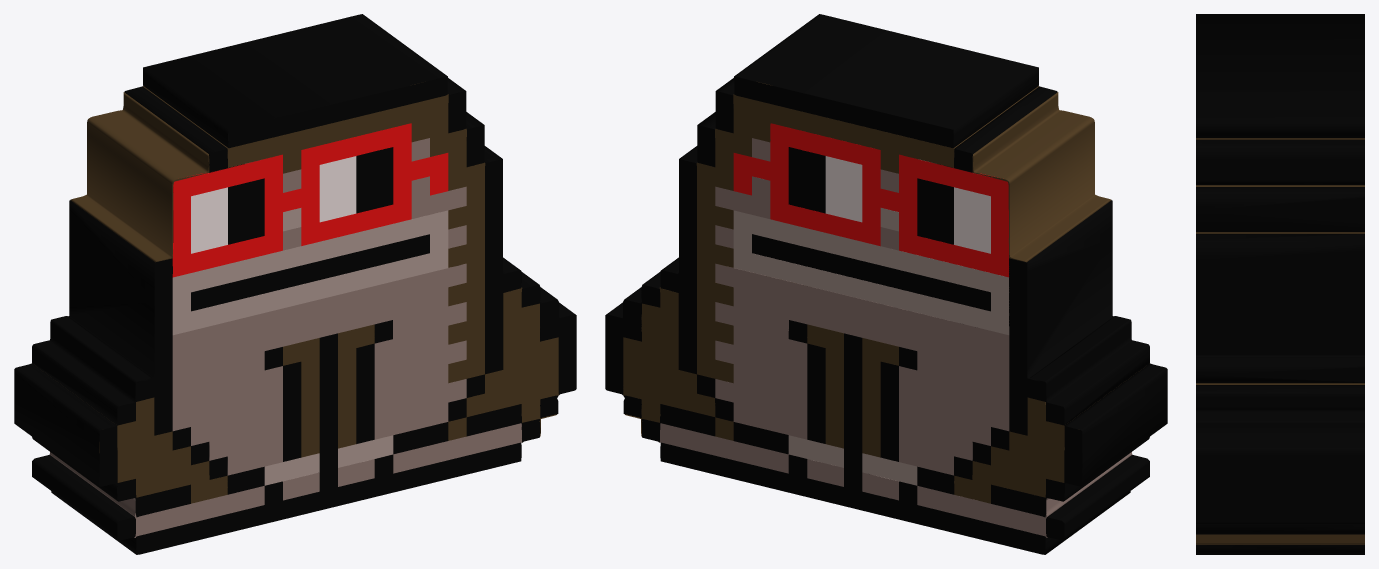
File: Toadz_6814.glb
3 views of the same model, side by side, from view 1: azimuth 30°, elevation 25°; view 2: azimuth 150°, elevation 25°; view 3: azimuth 270°, elevation 25° (orthographic).
Visible parts, largest first — view 1: Curve; view 2: Curve; view 3: Curve.
Boxes of the visible parts, box(x1,y1,x2,y2) form: Curve: box(14, 14, 576, 554); Curve: box(605, 14, 1167, 554); Curve: box(1196, 14, 1364, 554).
Size of the model in its own units: 3.23 by 2.61 by 1.
